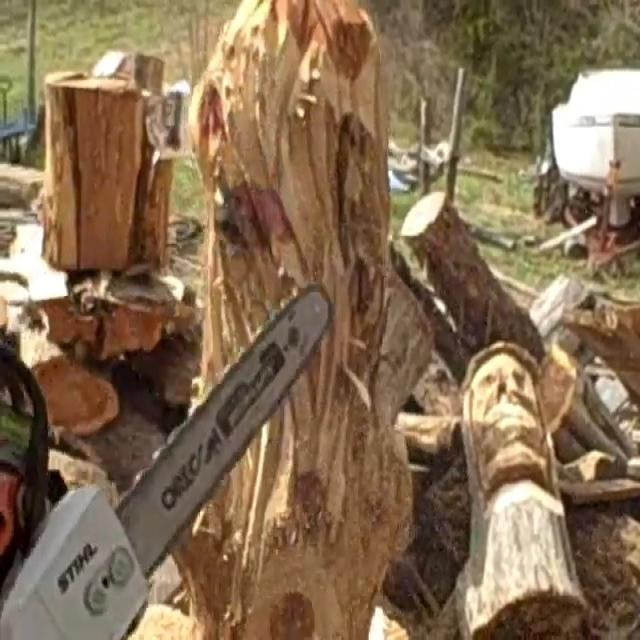Chainsaw: (0, 250, 358, 640)
